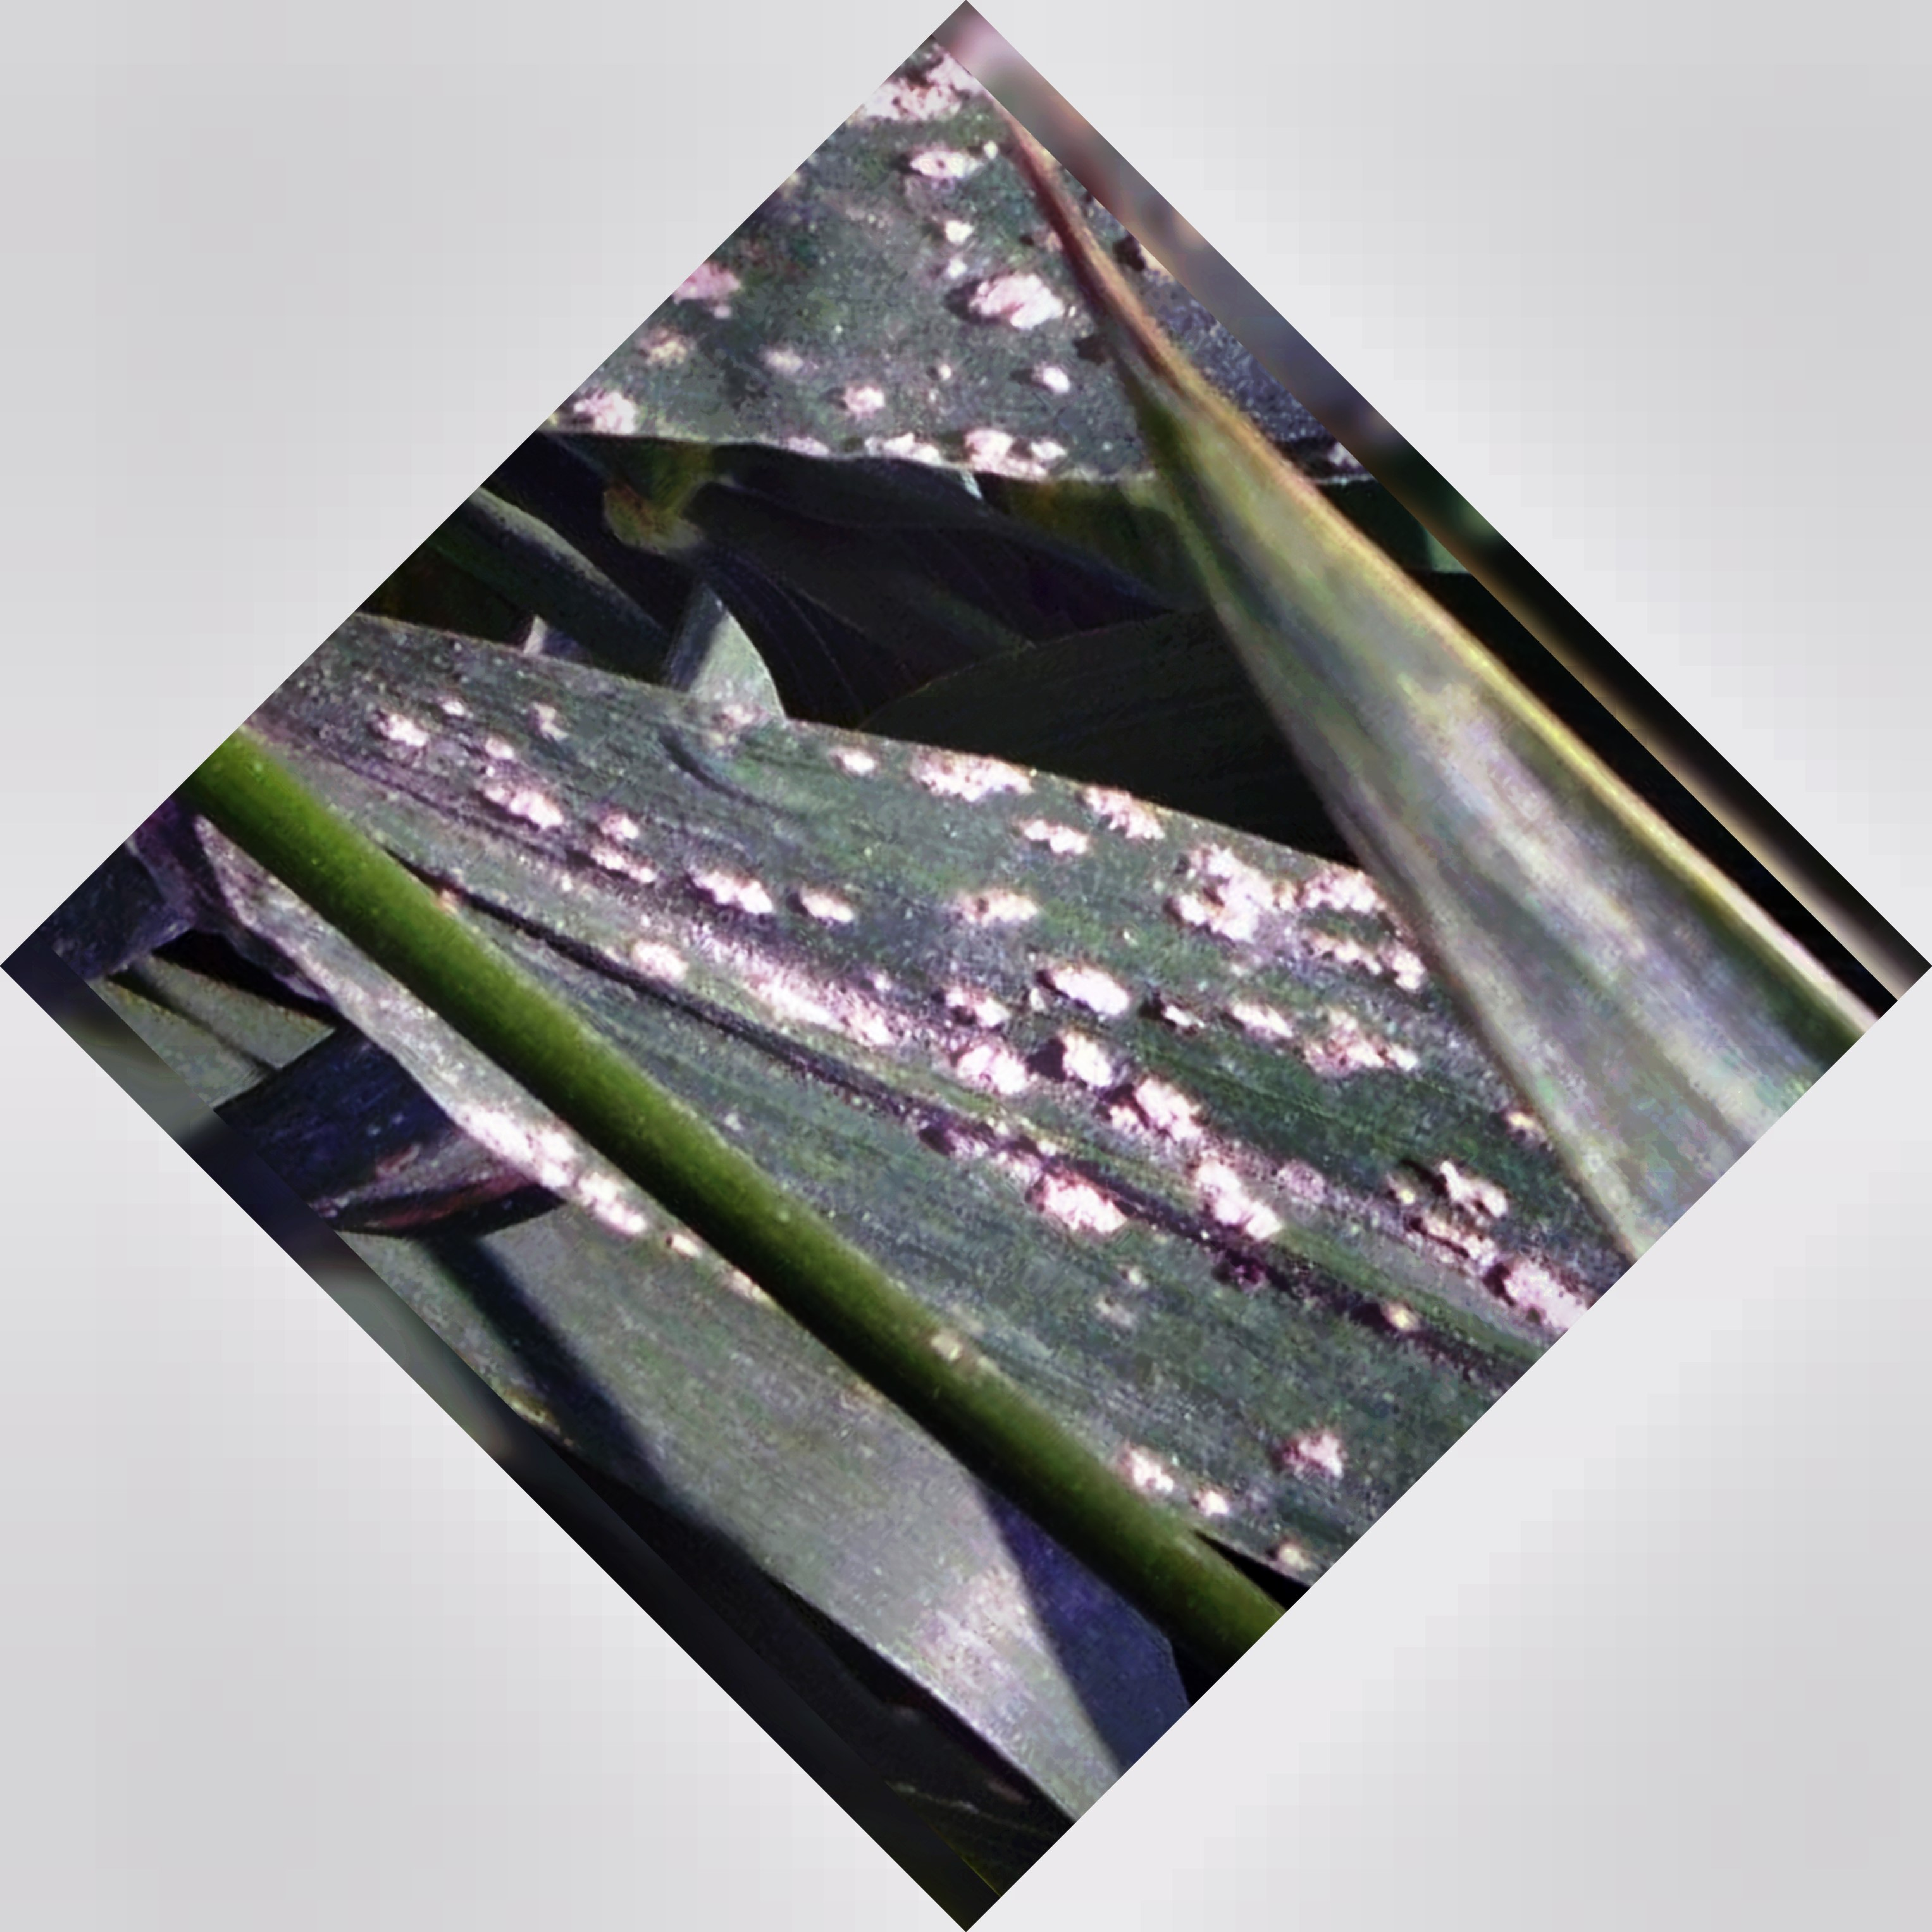Powdery Mildew: (410, 177, 1453, 1322)
